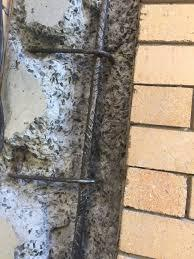exposed_rebar: (11, 0, 115, 259)
spalling: (0, 0, 141, 259)
